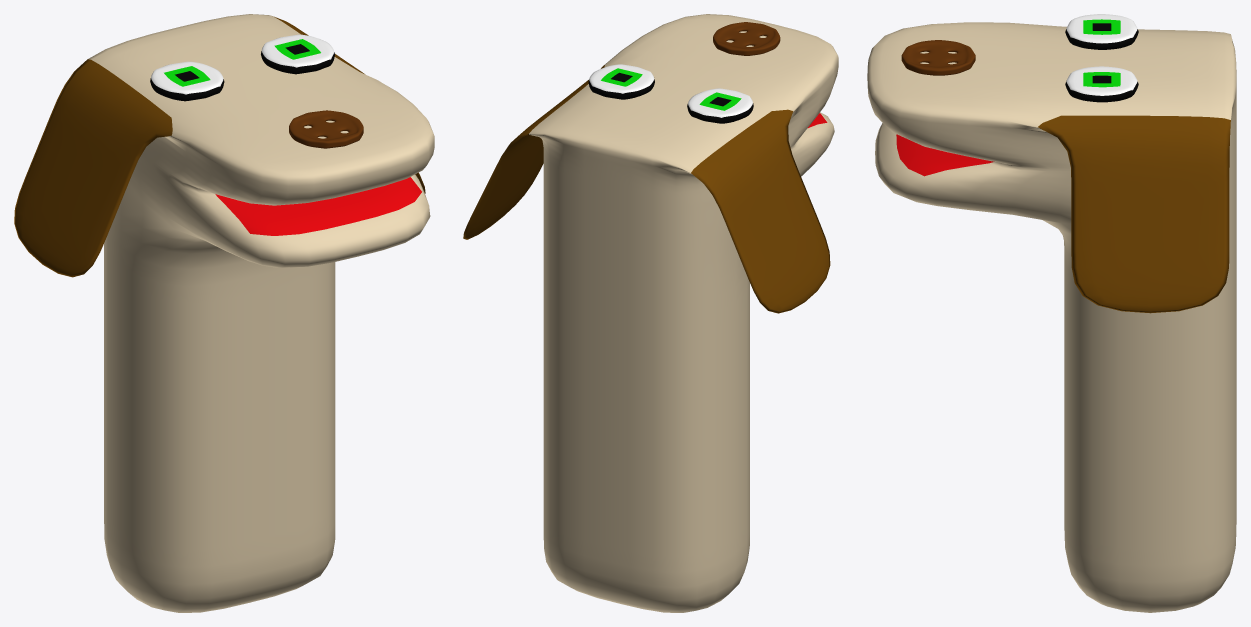
The model's file is Fantoche.fbx.
The picture shows the model from 3 angles, left to right: view 1: azimuth 30°, elevation 25°; view 2: azimuth 150°, elevation 25°; view 3: azimuth 270°, elevation 25°; orthographic projection. The views are drawn at different scales.
Parts seen in each view (by area): view 1: Cube, Cube.001, Cube.002, Cube.003; view 2: Cube, Cube.002, Cube.001, Cube.003; view 3: Cube, Cube.002, Cube.001, Cube.003.
Boxes of the visible parts, x1,y1,x2,y2 form: Cube: [14, 14, 434, 612]; Cube.001: [150, 61, 224, 101]; Cube.002: [261, 34, 334, 74]; Cube.003: [289, 110, 363, 148]; Cube: [463, 14, 838, 612]; Cube.002: [588, 64, 654, 99]; Cube.001: [687, 88, 753, 123]; Cube.003: [713, 22, 780, 55]; Cube: [867, 22, 1236, 612]; Cube.002: [1065, 66, 1138, 102]; Cube.001: [1065, 14, 1138, 49]; Cube.003: [901, 40, 975, 75].
Size of the model in its own units: 631 by 585 by 925.
